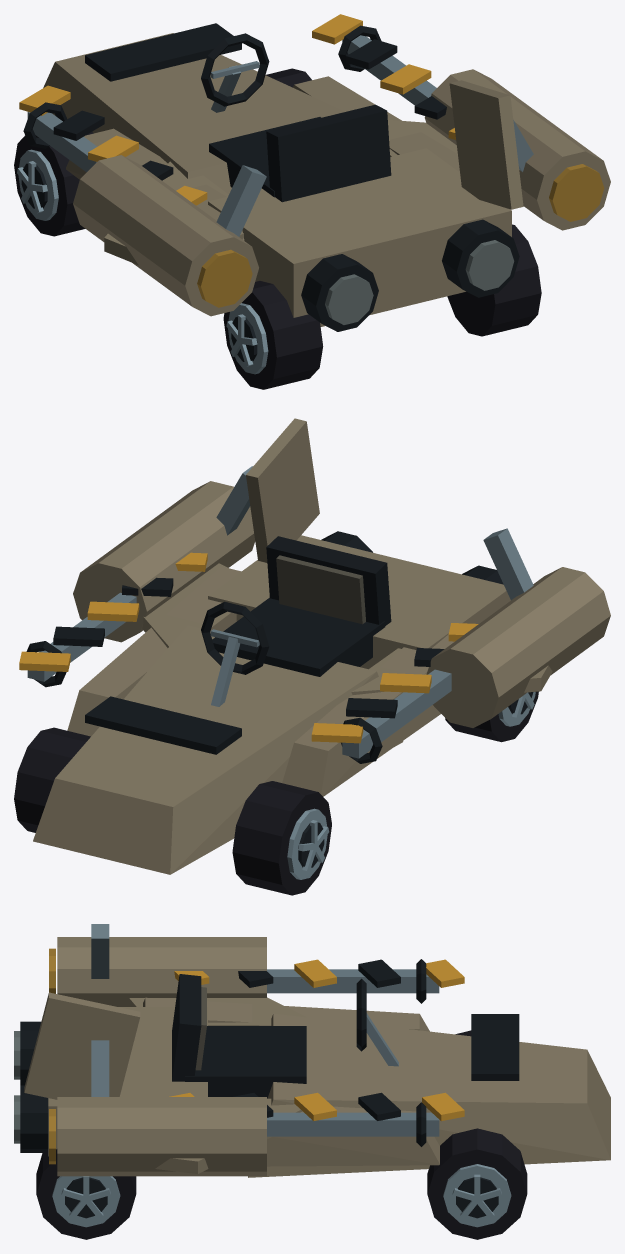
File: kart.glb
3 renders of one model, top to bottom at view 1: azimuth 30°, elevation 25°; view 2: azimuth 150°, elevation 25°; view 3: azimuth 270°, elevation 25°, orthographic. The views are drawn at different scales.
Visible parts, largest first — view 1: identity-shuttle-shuttle-flight-planform, identity-shuttle-motif-engine-pods, identity-shuttle-driver-cockpit, wheel-rear-left, identity-shuttle-motif-hazard-stripes, identity-shuttle-motif-pipes, wheel-front-left, wheel-rear-right; view 2: identity-shuttle-shuttle-flight-planform, identity-shuttle-motif-engine-pods, identity-shuttle-driver-cockpit, wheel-front-left, identity-shuttle-motif-pipes, identity-shuttle-motif-hazard-stripes, wheel-front-right, wheel-rear-left; view 3: identity-shuttle-shuttle-flight-planform, identity-shuttle-motif-engine-pods, identity-shuttle-driver-cockpit, identity-shuttle-motif-pipes, wheel-front-right, identity-shuttle-motif-hazard-stripes, wheel-rear-right.
Part boxes in pixels (bbox=[...]): identity-shuttle-shuttle-flight-planform: bbox=[43, 23, 523, 331]; identity-shuttle-motif-engine-pods: bbox=[73, 69, 610, 316]; identity-shuttle-driver-cockpit: bbox=[201, 33, 391, 202]; wheel-rear-left: bbox=[223, 281, 323, 389]; identity-shuttle-motif-hazard-stripes: bbox=[19, 14, 455, 205]; identity-shuttle-motif-pipes: bbox=[23, 25, 533, 236]; wheel-front-left: bbox=[14, 131, 93, 236]; wheel-rear-right: bbox=[447, 224, 541, 336]; identity-shuttle-shuttle-flight-planform: bbox=[33, 418, 552, 874]; identity-shuttle-motif-engine-pods: bbox=[73, 481, 610, 727]; identity-shuttle-driver-cockpit: bbox=[201, 536, 391, 706]; wheel-front-left: bbox=[232, 781, 331, 895]; identity-shuttle-motif-pipes: bbox=[26, 466, 533, 763]; identity-shuttle-motif-hazard-stripes: bbox=[19, 552, 478, 743]; wheel-front-right: bbox=[14, 727, 90, 832]; wheel-rear-left: bbox=[445, 691, 538, 742]; identity-shuttle-shuttle-flight-planform: bbox=[14, 992, 610, 1177]; identity-shuttle-motif-engine-pods: bbox=[49, 937, 266, 1176]; identity-shuttle-driver-cockpit: bbox=[172, 974, 398, 1098]; identity-shuttle-motif-pipes: bbox=[91, 924, 439, 1146]; wheel-front-right: bbox=[427, 1128, 527, 1239]; identity-shuttle-motif-hazard-stripes: bbox=[169, 959, 464, 1121]; wheel-rear-right: bbox=[36, 1149, 136, 1239].
Size of the model in its own units: 2.36 by 1.28 by 2.99.
